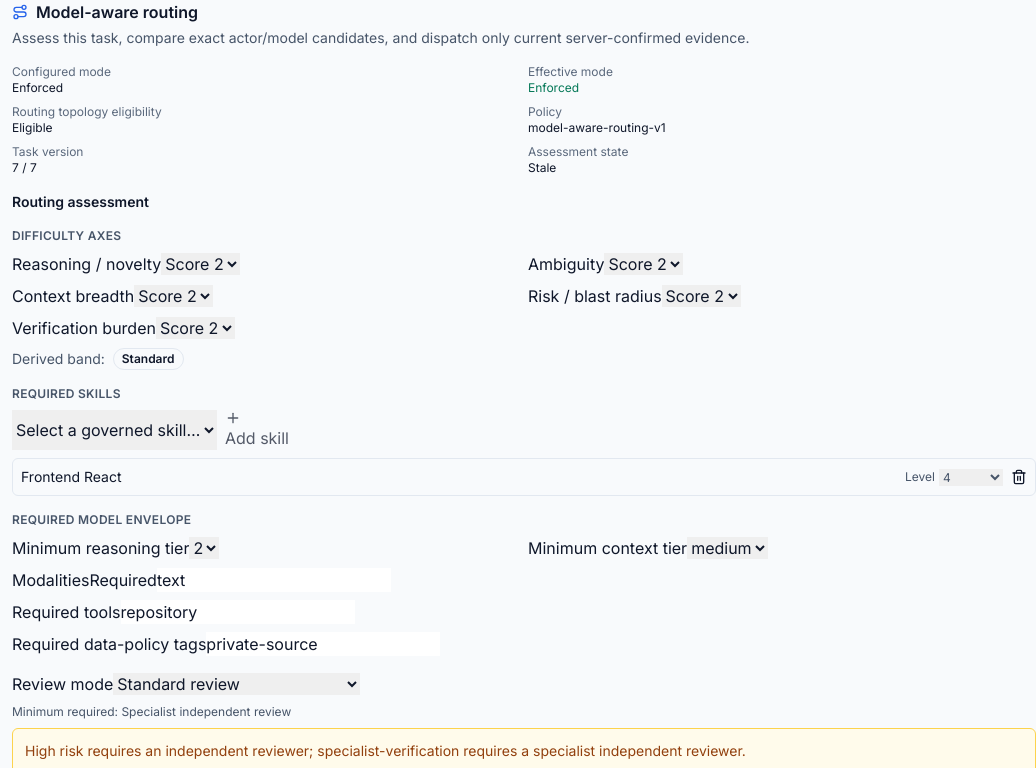
Test: TaskRoutingPanel routing gates › preserves the strictest pending lineage review floor
The image size is (1036, 768).
Select "Specialist independent review" in the dropdown labelled "Review mode": [237, 684] box [113,673,360,695]
(page scrolled)
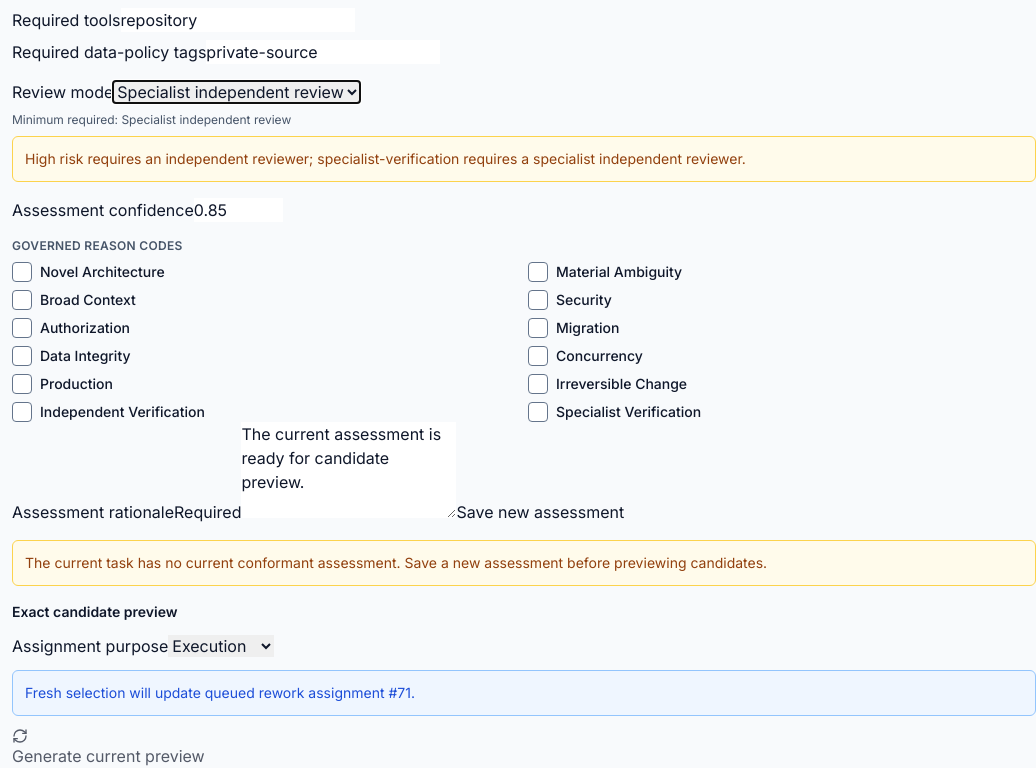
Check: the button "Save new assessment" is enabled, box [456,500,624,524]
